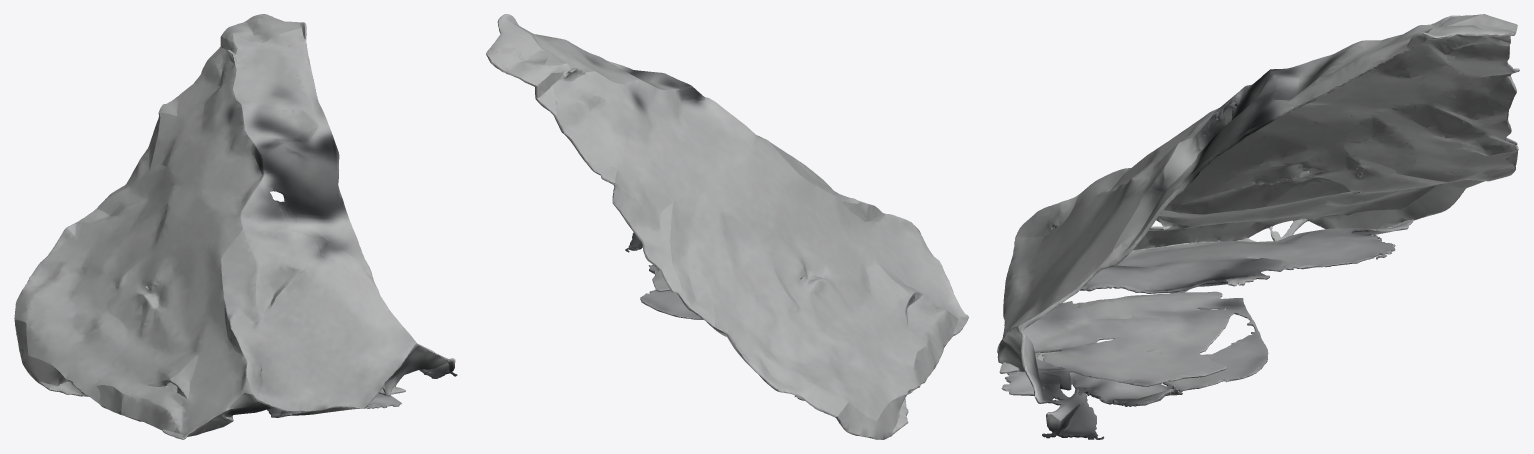
3 views of the same model, side by side, from view 1: azimuth 30°, elevation 25°; view 2: azimuth 150°, elevation 25°; view 3: azimuth 270°, elevation 25° (orthographic). The views are drawn at different scales.
Parts seen in each view (by area): view 1: world; view 2: world; view 3: world.
Boxes of the visible parts, bbox=[...] form: world: bbox=[14, 14, 457, 439]; world: bbox=[486, 14, 968, 439]; world: bbox=[997, 14, 1519, 439].
Bounding box in the file's own units: 0.12 × 0.1022 × 0.119.
Materials: 1 (1 with a texture image).
